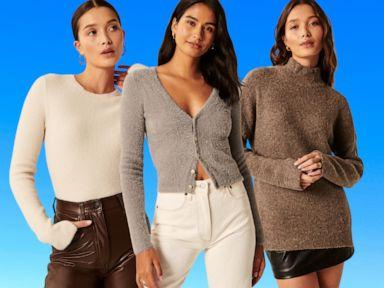long sleeve shirt: (117, 65, 264, 256)
skirt: (265, 239, 354, 280)
sweater: (238, 56, 365, 251), (8, 67, 144, 249)
trousers: (146, 176, 255, 288), (41, 195, 152, 288)
